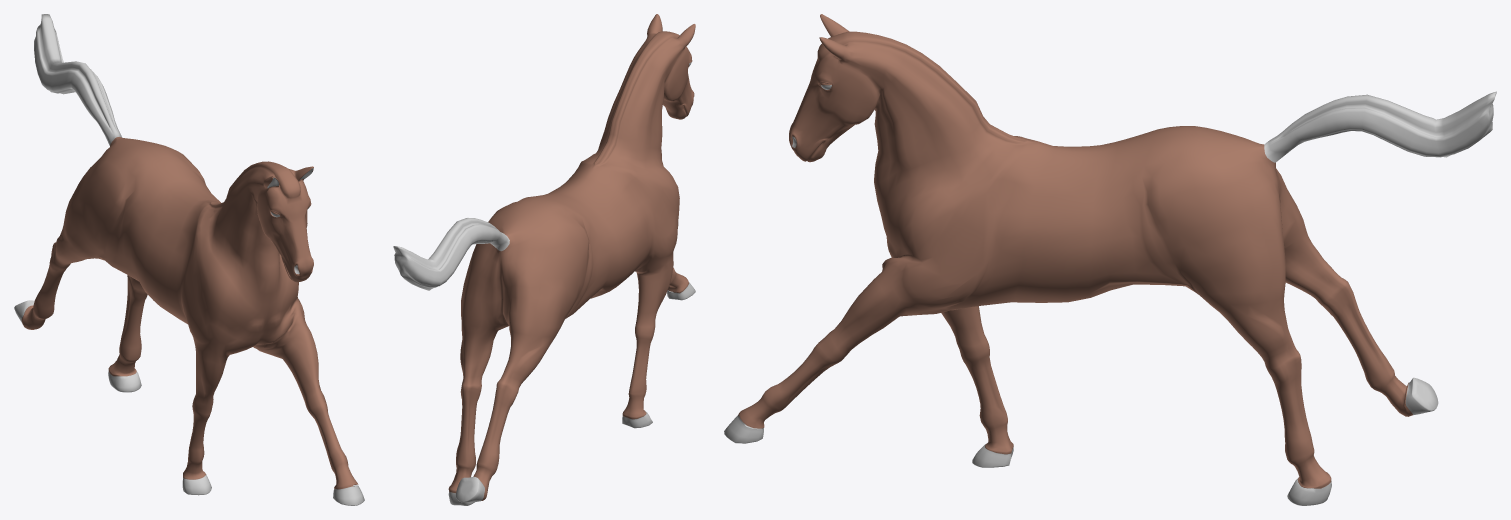
File: horse_obj_12.obj
3 views of the same model, side by side, from view 1: azimuth 30°, elevation 25°; view 2: azimuth 150°, elevation 25°; view 3: azimuth 270°, elevation 25° (orthographic). The views are drawn at different scales.
Visible parts, largest first — view 1: Figure_1; view 2: Figure_1; view 3: Figure_1.
Part boxes in pixels (bbox=[...]): Figure_1: bbox=[14, 14, 364, 505]; Figure_1: bbox=[393, 14, 695, 505]; Figure_1: bbox=[724, 14, 1496, 505].
Bounding box in the file's own units: 0.2421 × 0.8218 × 1.26.
